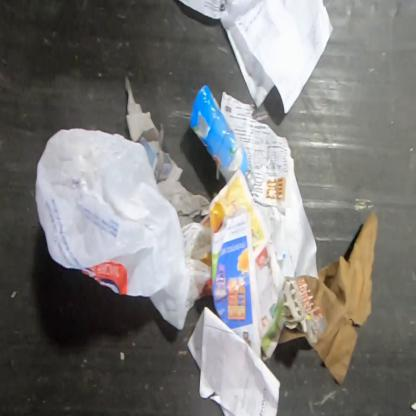rigid_plastic: (188, 83, 258, 194)
soft_plastic: (34, 127, 212, 332)
